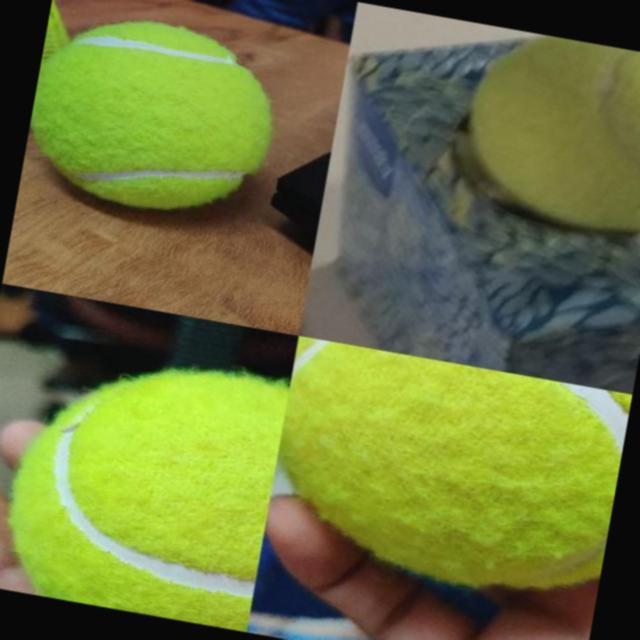Tennis Ball: (263, 336, 632, 604), (0, 341, 289, 631), (20, 5, 286, 226), (450, 23, 640, 240)
